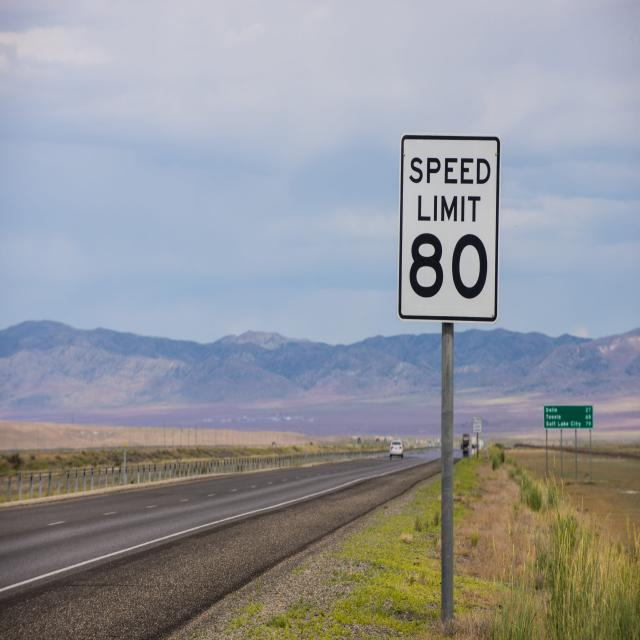speedLimit80: (398, 132, 498, 323)
